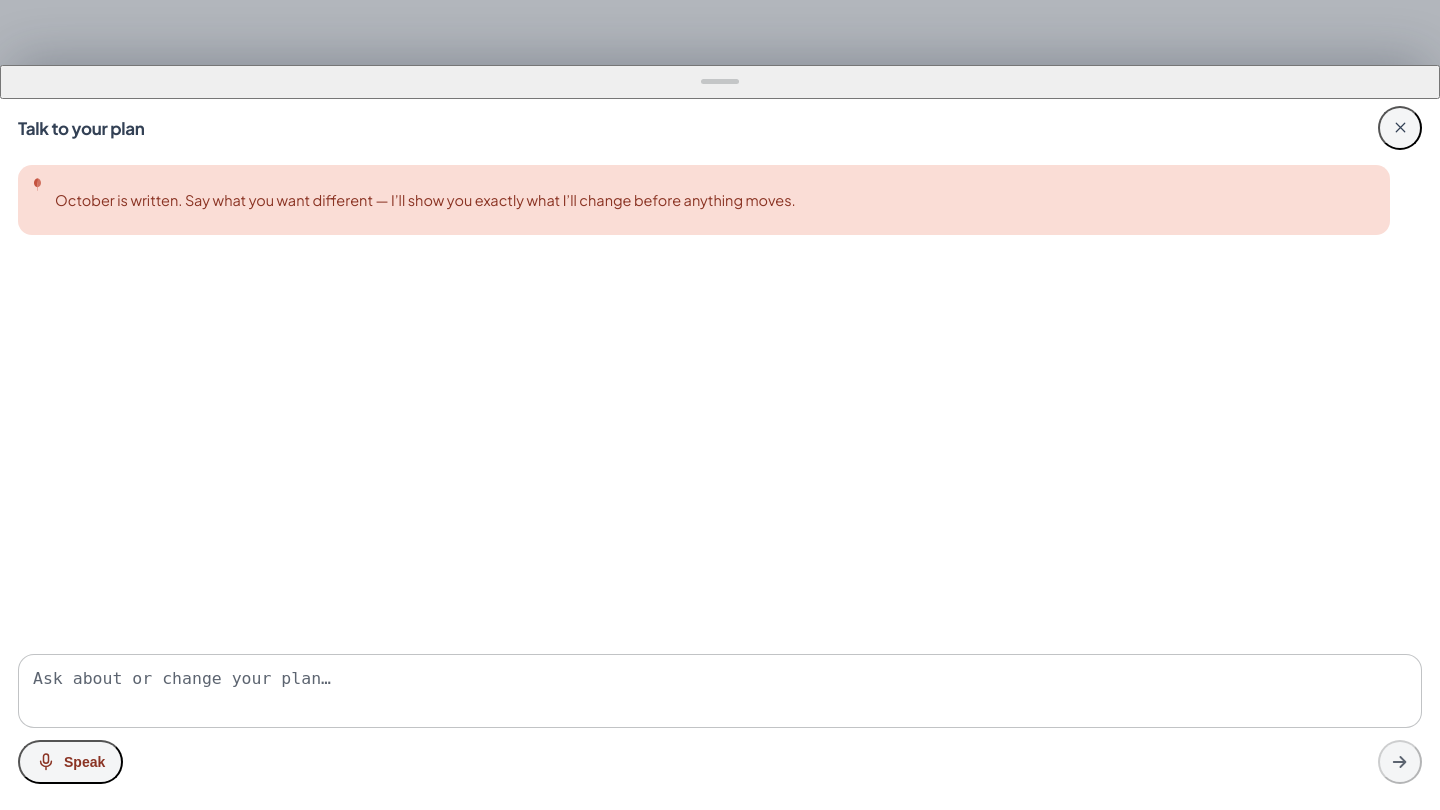
Test case: speak → interpretation → apply-in-thread → confirmation turn › a failure report becomes the confirmation turn too — named, in the thread
The width and height of the screenshot is (1440, 810).
Expected: the message with test id "turn-agent" is shown, left=18, top=165, right=1390, bottom=235
Type "move it" into the text box with test id "voice-input" at (720, 691), box left=18, top=654, right=1422, bottom=728
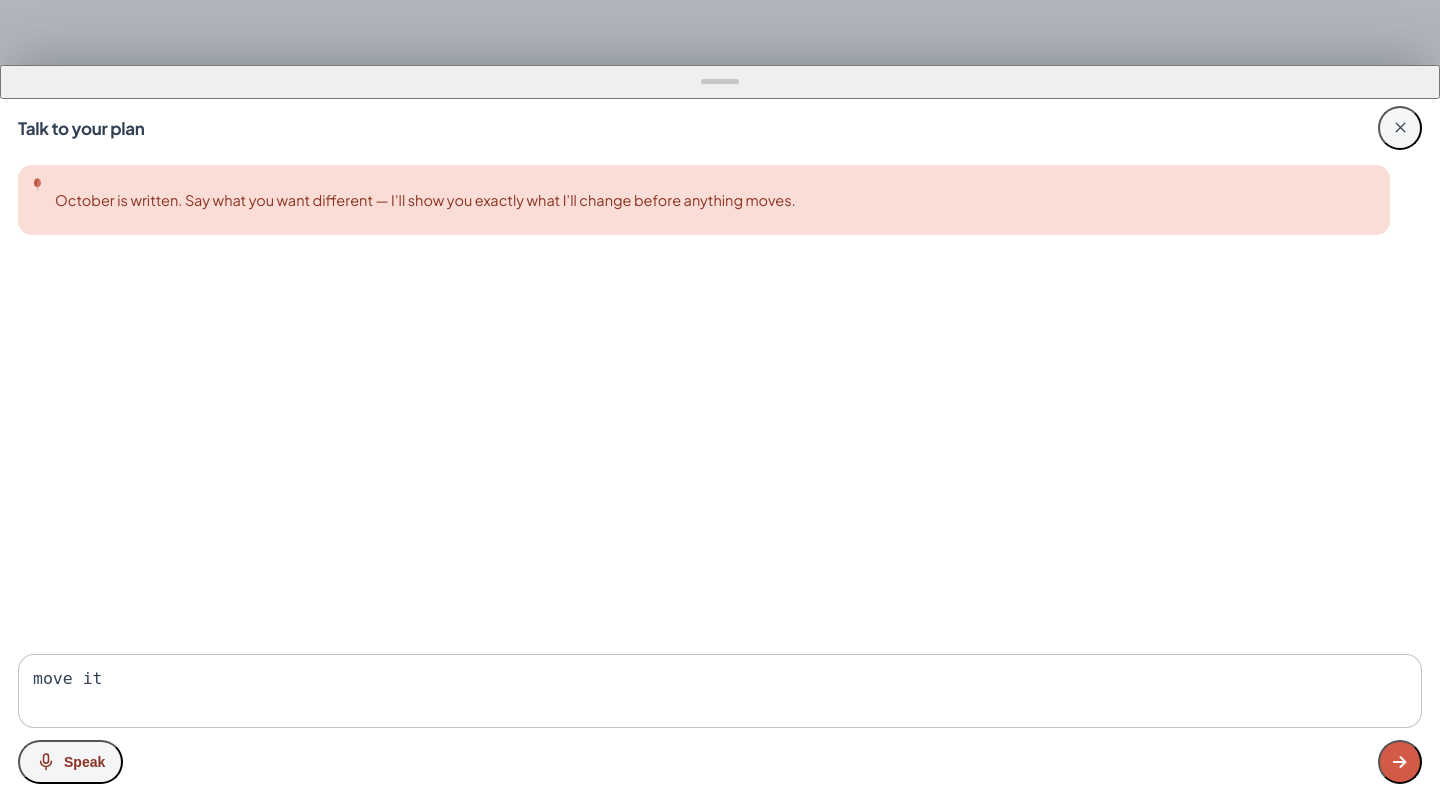
Click the button with test id "voice-submit" at (1400, 762), box left=1378, top=740, right=1422, bottom=784
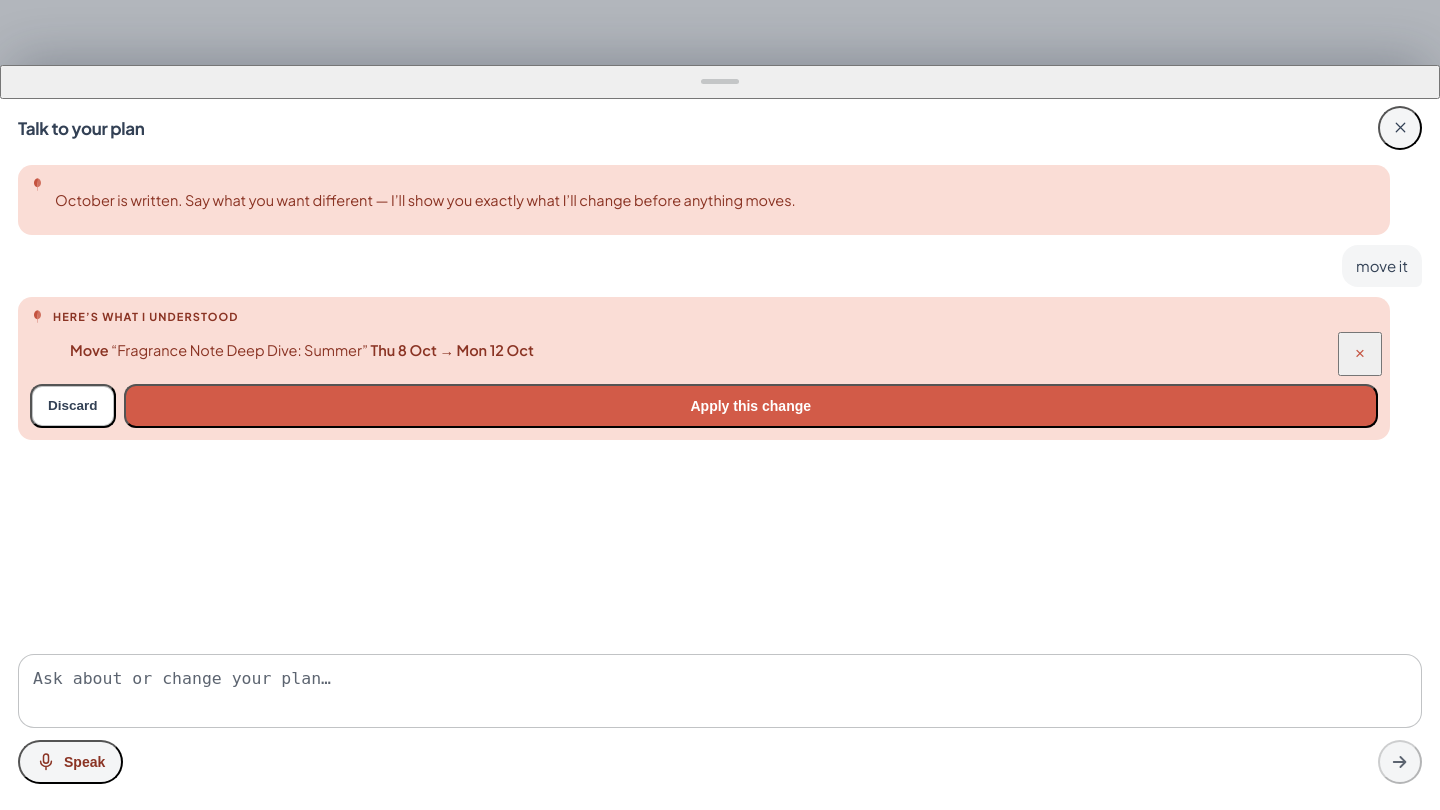
Click the button with test id "interp-apply" at (751, 406), box left=124, top=384, right=1378, bottom=428
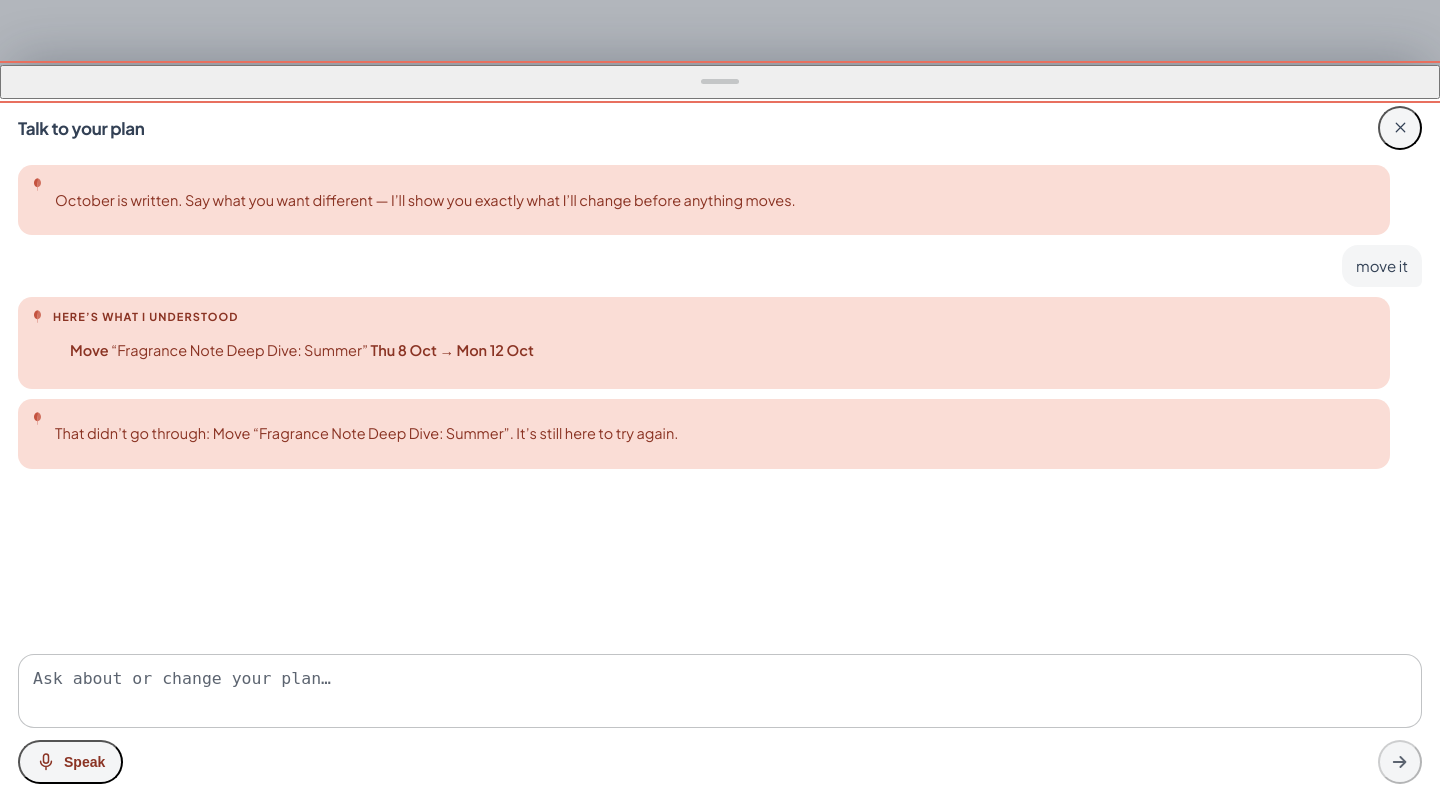
Expected: the message with test id "turn-agent" shows "still here to try again", left=55, top=424, right=678, bottom=442
